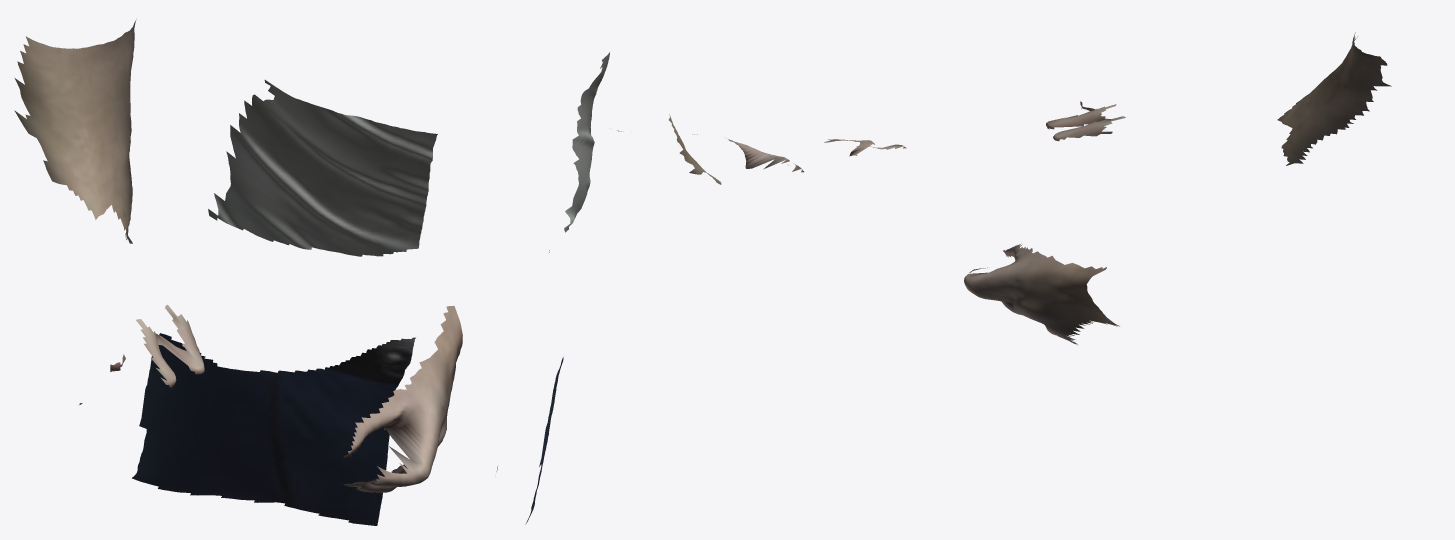
The picture shows the model from 3 angles, left to right: view 1: azimuth 30°, elevation 25°; view 2: azimuth 150°, elevation 25°; view 3: azimuth 270°, elevation 25°; orthographic projection. The views are drawn at different scales.
Visible parts, largest first — view 1: world; view 2: world; view 3: world.
Boxes of the visible parts, bbox=[...] form: world: bbox=[14, 19, 462, 525]; world: bbox=[496, 52, 906, 524]; world: bbox=[964, 32, 1391, 344].
Size of the model in its own units: 0.4155 by 0.4837 by 0.5173.
Materials: 1 (1 with a texture image).
